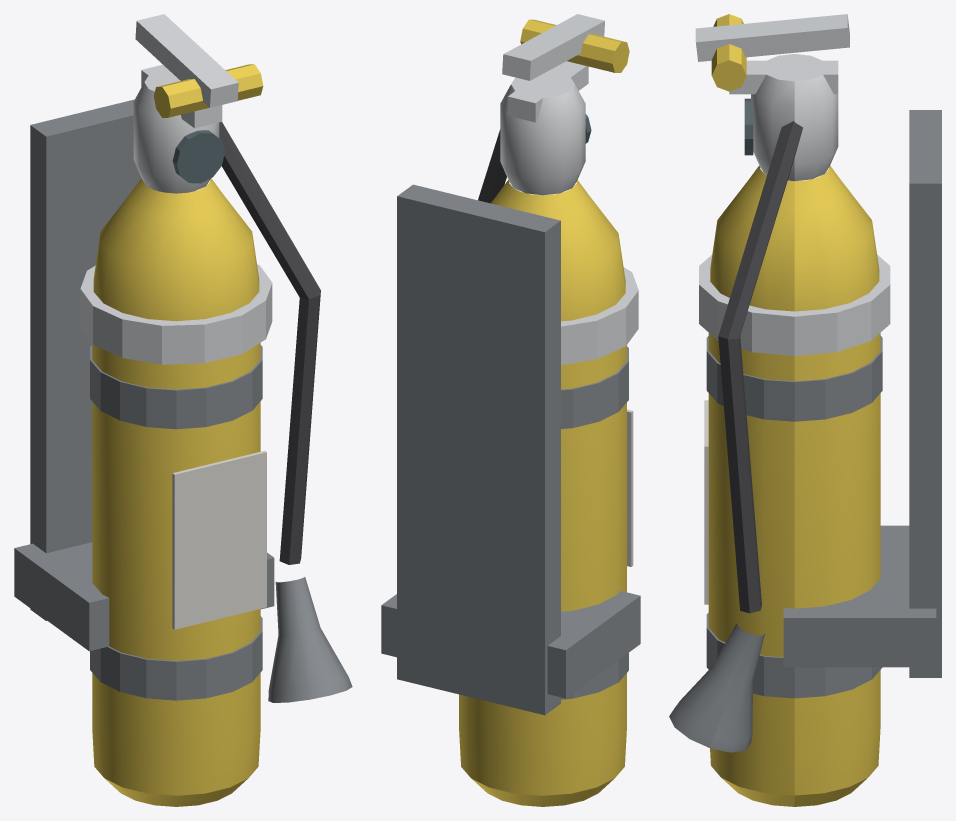
File: cold-war-missile-silo-and-command-bunker-fire-extingui-a800b2f3__15702.glb
The picture shows the model from 3 angles, left to right: view 1: azimuth 30°, elevation 25°; view 2: azimuth 150°, elevation 25°; view 3: azimuth 270°, elevation 25°; orthographic projection. The views are drawn at different scales.
Parts seen in each view (by area): view 1: fire-extinguisher; view 2: fire-extinguisher; view 3: fire-extinguisher.
Part boxes in pixels (x1=…): fire-extinguisher: x1=14, y1=14, x2=352, y2=806; fire-extinguisher: x1=381, y1=14, x2=640, y2=806; fire-extinguisher: x1=669, y1=14, x2=941, y2=806.
Size of the model in its own units: 0.24 by 0.7673 by 0.2502.
